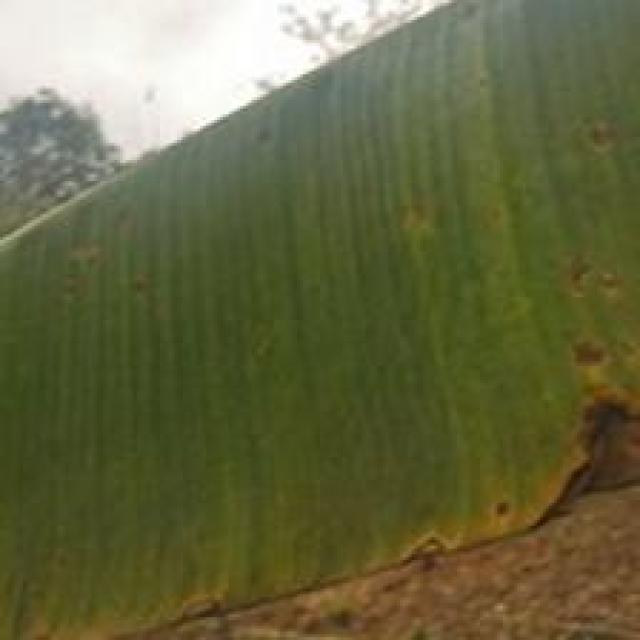Downey_mildrew: (529, 248, 640, 522), (386, 498, 549, 558), (376, 170, 447, 253), (554, 114, 640, 169), (152, 584, 251, 620)
